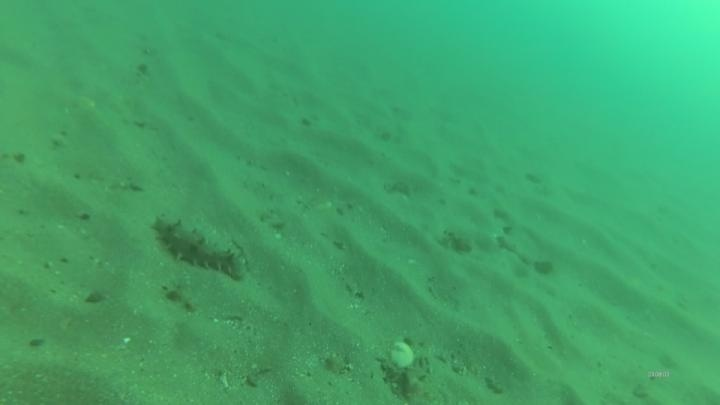holothurian: (148, 212, 248, 282)
